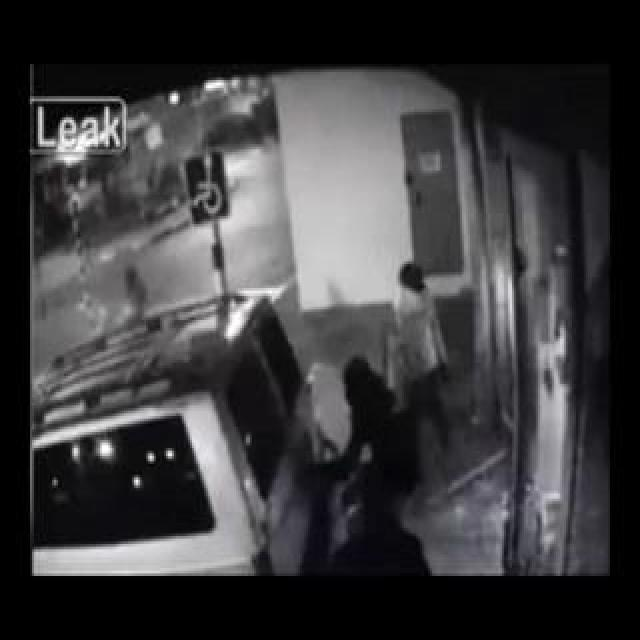thief: (329, 233, 443, 452)
